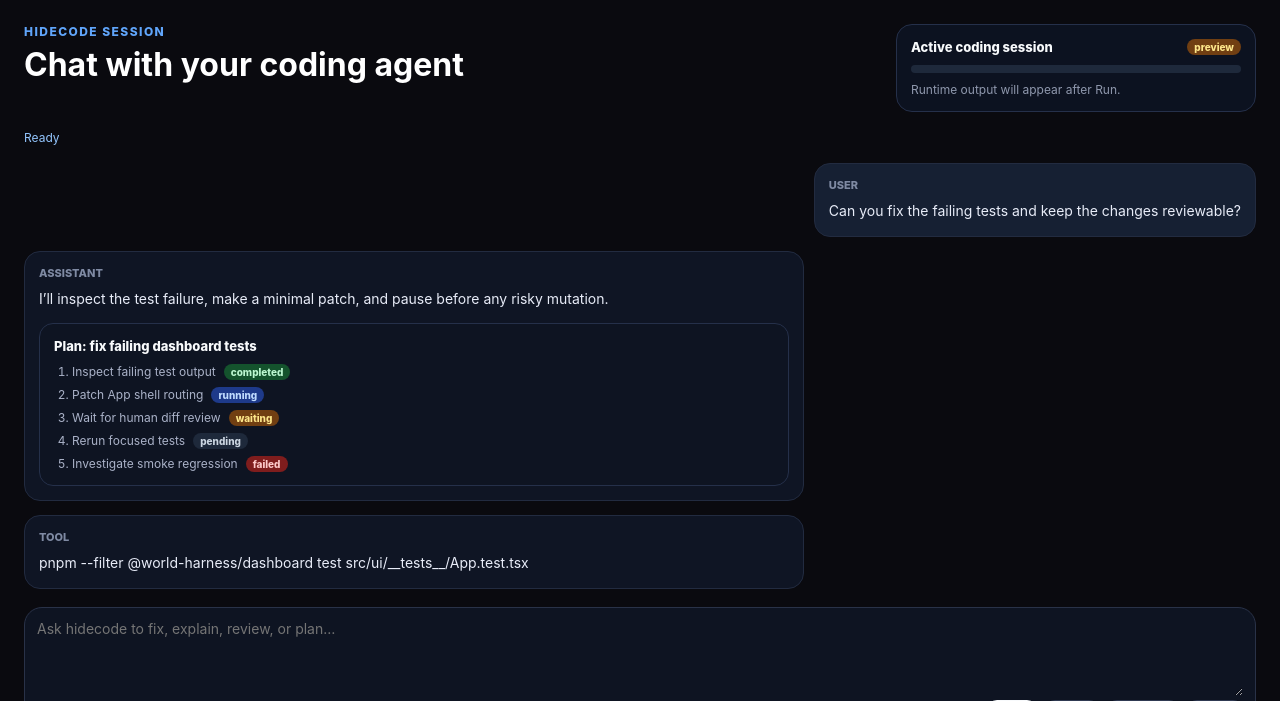
Test case: ChatWorkspace › renders failed run progress when the backend rejects submission
The width and height of the screenshot is (1280, 701).
Type "Fix this" into the text box named "Message hidecode" at (640,658), box [37, 620, 1243, 696]
(page scrolled)
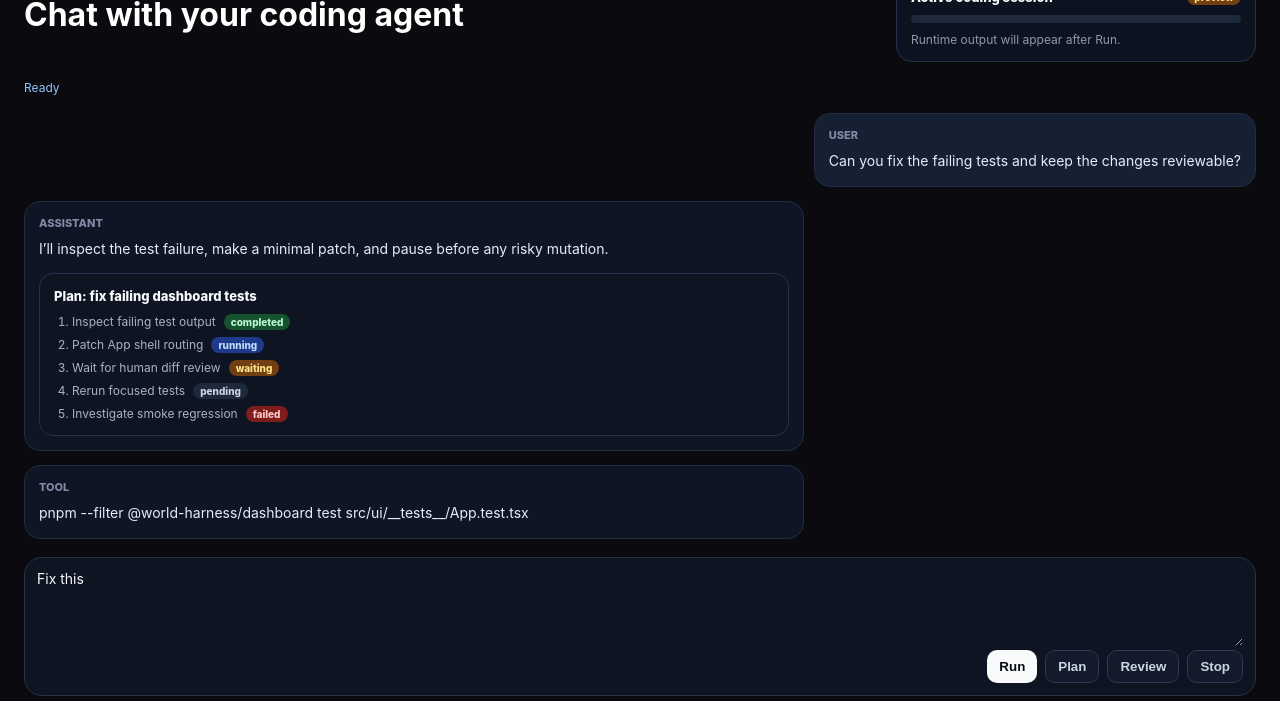
Click the button "Run" at (1012,667), box [987, 650, 1037, 683]
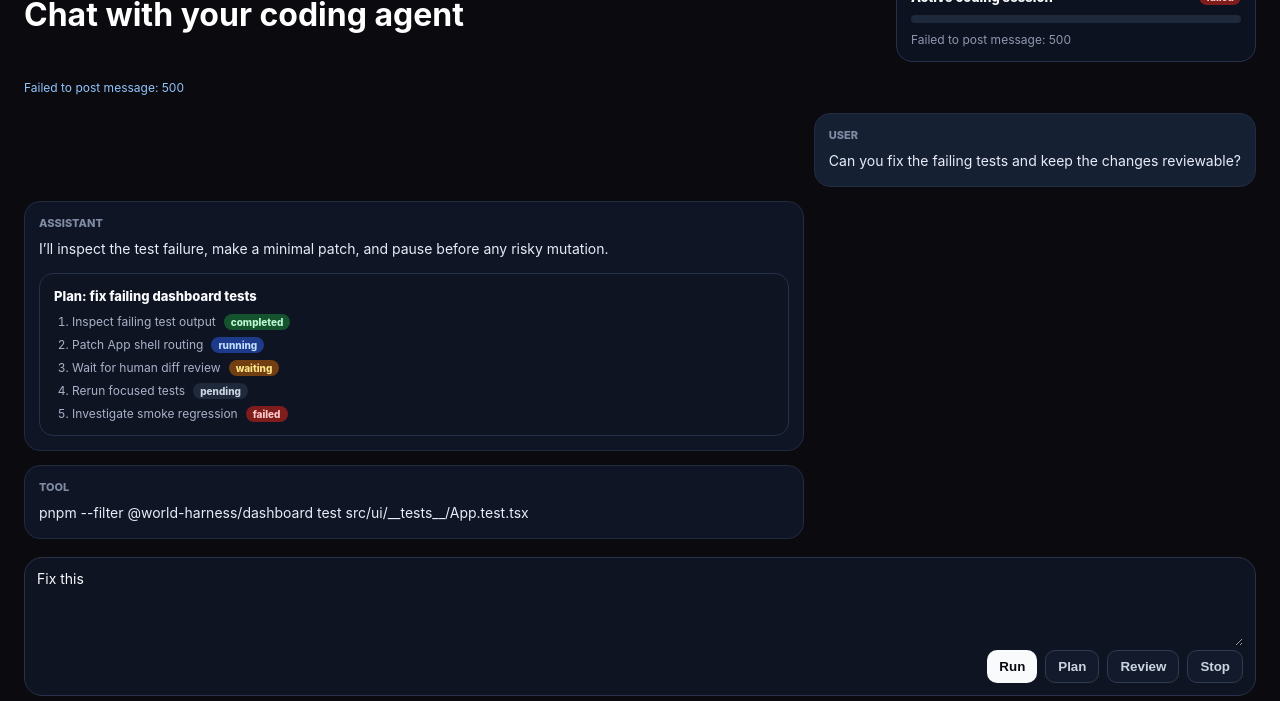
Check: the text "Failed to post message: 500" below "Active coding session" is shown, box [911, 32, 1071, 47]
